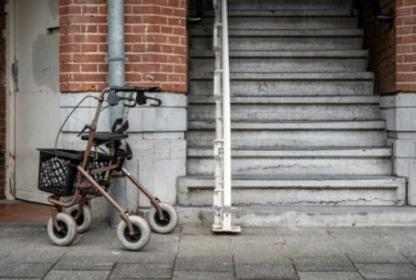stair: (189, 0, 406, 234)
